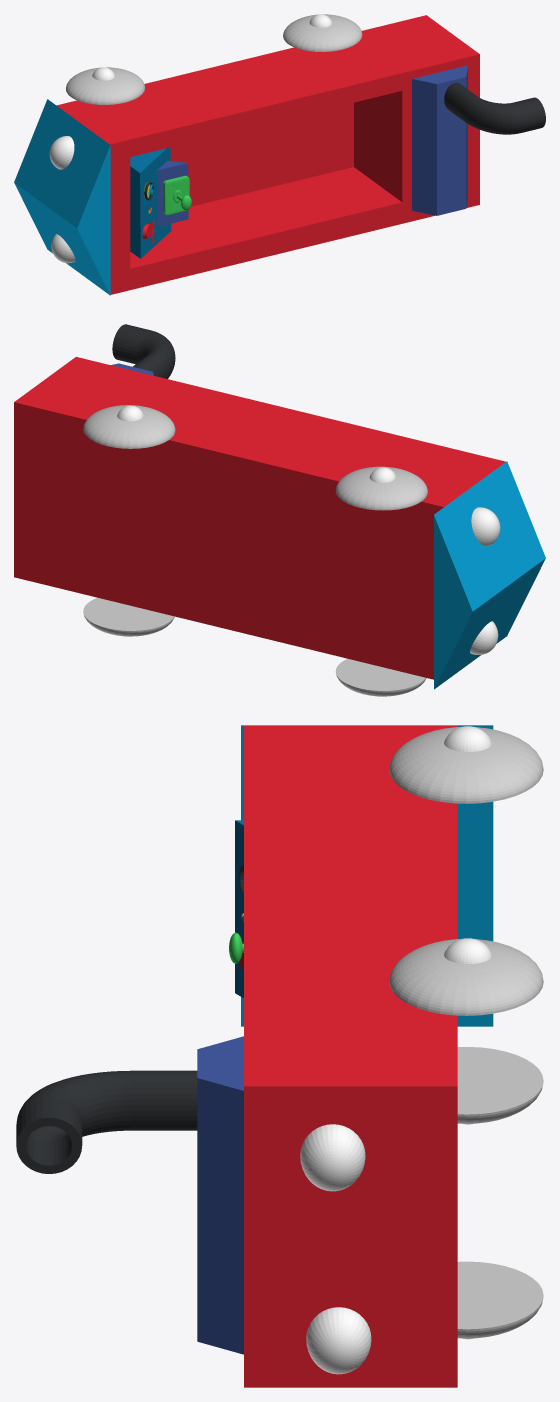
File: GoCart.obj
3 views of the same model, one above another, from view 1: azimuth 30°, elevation 25°; view 2: azimuth 150°, elevation 25°; view 3: azimuth 270°, elevation 25° (orthographic). The views are drawn at different scales.
Parts seen in each view (by area): view 1: group_0_15277357, group_0_40919, group_0_3888547, group_0_0, group_0_2829873, group_0_30377, group_0_16448250, group_0_3725401; view 2: group_0_15277357, group_0_40919, group_0_0, group_0_2829873, group_0_16448250; view 3: group_0_15277357, group_0_0, group_0_3888547, group_0_2829873, group_0_16448250, group_0_40919, group_0_30377.
Boxes of the visible parts, bbox=[...] form: group_0_15277357: bbox=[56, 15, 479, 294]; group_0_40919: bbox=[14, 99, 153, 295]; group_0_3888547: bbox=[157, 65, 467, 226]; group_0_0: bbox=[66, 14, 362, 104]; group_0_2829873: bbox=[144, 82, 545, 200]; group_0_30377: bbox=[130, 147, 171, 258]; group_0_16448250: bbox=[49, 14, 332, 263]; group_0_3725401: bbox=[163, 175, 191, 215]; group_0_15277357: bbox=[14, 357, 505, 679]; group_0_40919: bbox=[434, 461, 545, 689]; group_0_0: bbox=[83, 405, 427, 696]; group_0_2829873: bbox=[112, 324, 175, 378]; group_0_16448250: bbox=[117, 405, 500, 696]; group_0_15277357: bbox=[239, 725, 457, 1387]; group_0_0: bbox=[389, 727, 543, 1338]; group_0_3888547: bbox=[197, 1036, 243, 1354]; group_0_2829873: bbox=[16, 864, 243, 1173]; group_0_16448250: bbox=[300, 726, 491, 1374]; group_0_40919: bbox=[240, 725, 493, 1026]; group_0_30377: bbox=[235, 820, 243, 998].
Size of the model in its own units: 165 by 73.25 by 88.82.
